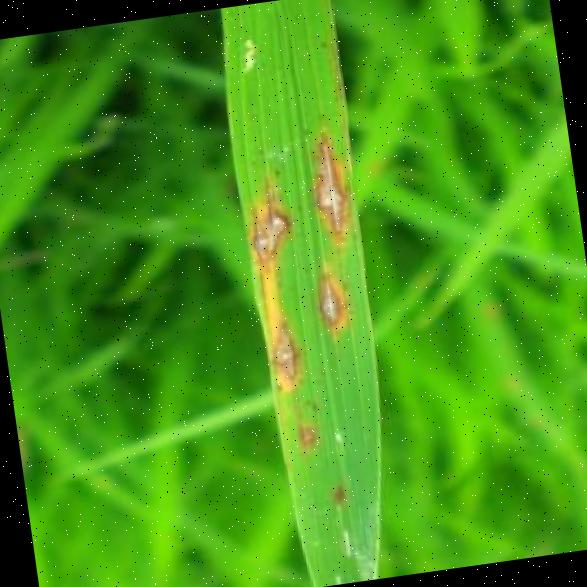Leaf_smut: (275, 107, 386, 246), (295, 244, 362, 339), (237, 181, 304, 276), (257, 310, 309, 394)
